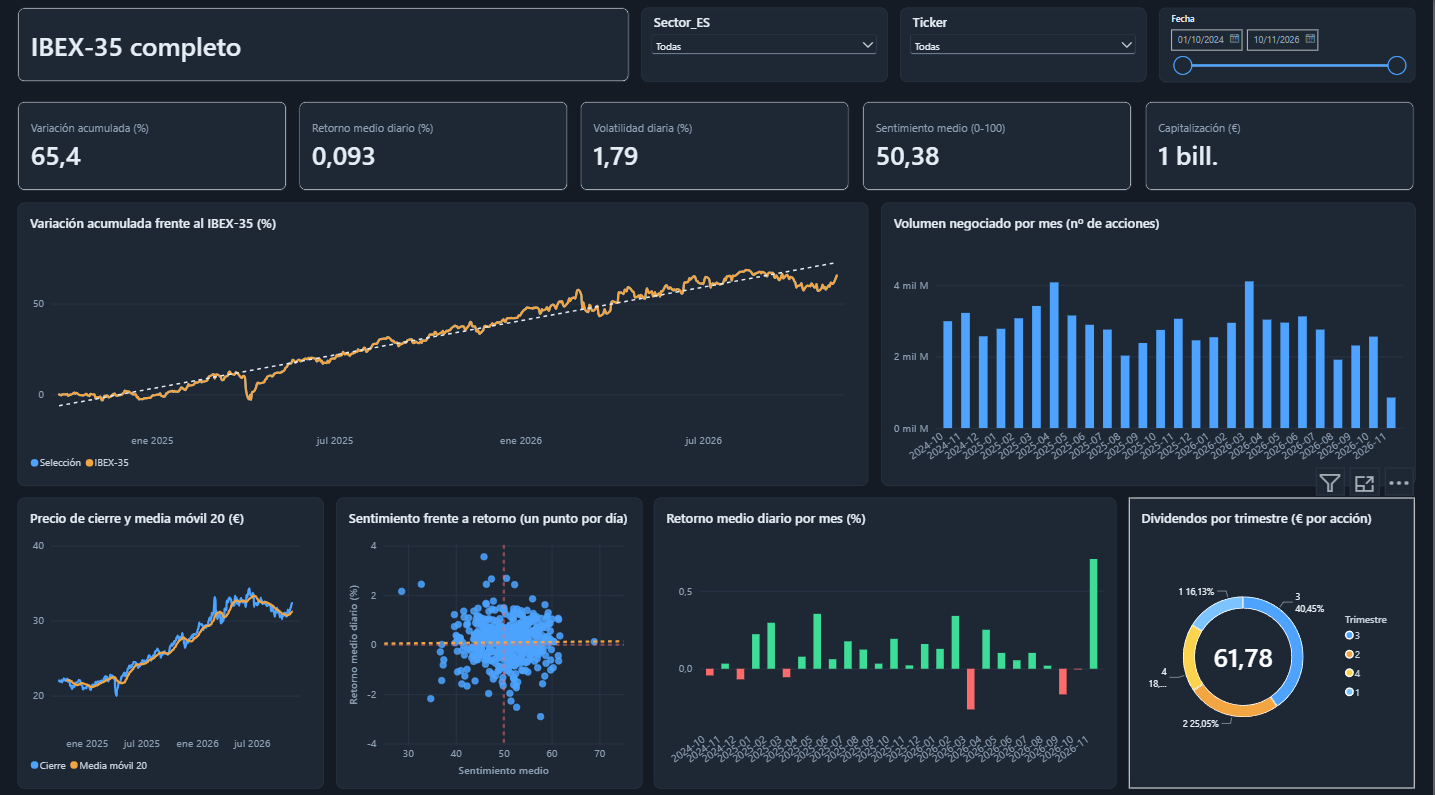

What the dashboard file says about the page in this screenshot:
{"tool":"powerbi","page":{"name":"Dashboard","canvas":[1920,1080],"ordinal":3},"visuals":[{"type":"slicer","fields":{"Values":["Empresa.Sector_ES"]},"box":[753.5,31.4,280.8,68],"z":0},{"type":"slicer","fields":{"Values":["Empresa.Ticker"]},"box":[1055.2,26.2,280.8,80.2],"z":1000},{"type":"slicer","fields":{"Values":["Fecha.Fecha"]},"box":[1360.5,19.2,280.8,95.9],"z":2000},{"type":"cardVisual","fields":{"Data":["Hechos.Variacion Acumulada"]},"box":[36.6,115.1,218,174.4],"z":3000},{"type":"cardVisual","fields":{"Data":["Hechos.Retorno Medio Diario"]},"box":[375,115.1,218,174.4],"z":4000},{"type":"cardVisual","fields":{"Data":["Hechos.Volatilidad Diaria"]},"box":[741.3,115.1,218,174.4],"z":5000},{"type":"cardVisual","fields":{"Data":["Hechos.Sentimiento Medio"]},"box":[1088.4,115.1,218,174.4],"z":6000},{"type":"cardVisual","fields":{"Data":["Hechos.Capitalizacion Total"]},"box":[1447.7,115.1,218,174.4],"z":7000},{"type":"lineChart","fields":{"Category":["Fecha.Fecha"],"Y":["Hechos.Var Acum Seleccion","Hechos.Var Acum IBEX"]},"box":[43.6,314,1058.7,376.7],"z":8000},{"type":"clusteredColumnChart","fields":{"Category":["Fecha.AnioMes"],"Y":["Sum(Hechos.Volume)"]},"box":[1133.7,314,736,376.7],"z":9000},{"type":"lineChart","fields":{"Category":["Fecha.Fecha"],"Y":["Avg(Hechos.Close)","Avg(Hechos.Media_Movil_20)"]},"box":[66.3,711.6,395.9,322.7],"z":10000},{"type":"scatterChart","fields":{"Category":["Fecha.Fecha"],"X":["Hechos.Sentimiento Medio"],"Y":["Hechos.Retorno Medio Diario"]},"box":[462.2,711.6,444.8,322.7],"z":11000},{"type":"clusteredColumnChart","fields":{"Category":["Fecha.AnioMes"],"Y":["Hechos.Retorno Medio Diario"]},"box":[907,711.6,610.5,322.7],"z":12000},{"type":"donutChart","fields":{"Category":["Fecha.Trimestre"],"Y":["Sum(Hechos.Dividends)"]},"box":[1517.4,711.6,385.5,322.7],"z":13000},{"type":"cardVisual","fields":{"Data":["Hechos.Titulo Dashboard"]},"box":[66.3,19.2,556.4,75],"z":13001}]}

Visuals, with their boxes in screenshot pixels (x1, y1, x2, y2), scaled from the page's 1920x1080 canvas onto the 1435x795 screenshot:
slicer - Empresa.Sector_ES: pyautogui.locateOnScreen(563, 23, 773, 73)
slicer - Empresa.Ticker: pyautogui.locateOnScreen(789, 19, 999, 78)
slicer - Fecha.Fecha: pyautogui.locateOnScreen(1017, 14, 1227, 85)
cardVisual - Hechos.Variacion Acumulada: pyautogui.locateOnScreen(27, 85, 190, 213)
cardVisual - Hechos.Retorno Medio Diario: pyautogui.locateOnScreen(280, 85, 443, 213)
cardVisual - Hechos.Volatilidad Diaria: pyautogui.locateOnScreen(554, 85, 717, 213)
cardVisual - Hechos.Sentimiento Medio: pyautogui.locateOnScreen(813, 85, 976, 213)
cardVisual - Hechos.Capitalizacion Total: pyautogui.locateOnScreen(1082, 85, 1245, 213)
lineChart - Fecha.Fecha x Hechos.Var Acum Seleccion: pyautogui.locateOnScreen(33, 231, 824, 508)
clusteredColumnChart - Fecha.AnioMes x Sum(Hechos.Volume): pyautogui.locateOnScreen(847, 231, 1397, 508)
lineChart - Fecha.Fecha x Avg(Hechos.Close): pyautogui.locateOnScreen(50, 524, 345, 761)
scatterChart - Fecha.Fecha x Hechos.Sentimiento Medio: pyautogui.locateOnScreen(345, 524, 678, 761)
clusteredColumnChart - Fecha.AnioMes x Hechos.Retorno Medio Diario: pyautogui.locateOnScreen(678, 524, 1134, 761)
donutChart - Fecha.Trimestre x Sum(Hechos.Dividends): pyautogui.locateOnScreen(1134, 524, 1422, 761)
cardVisual - Hechos.Titulo Dashboard: pyautogui.locateOnScreen(50, 14, 465, 69)
